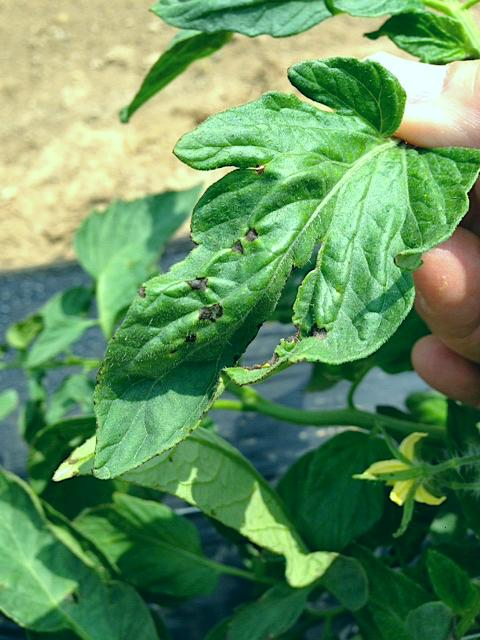Tomato leaf bacterial spot: (91, 53, 466, 489)
